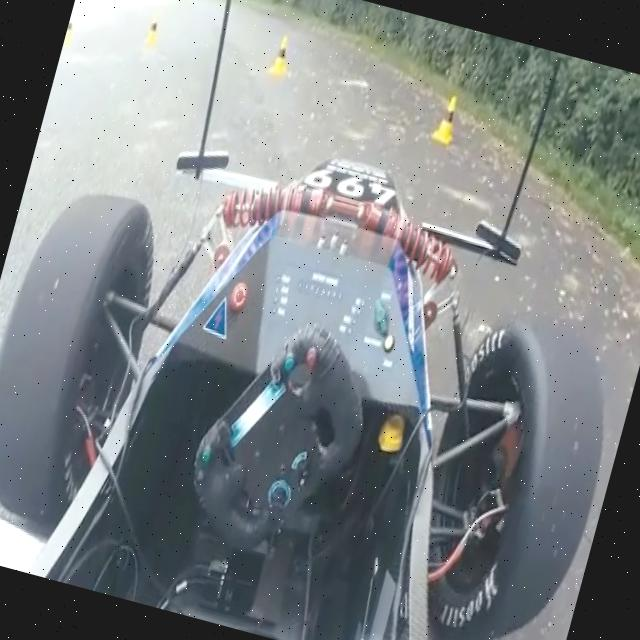yellow_cone: (426, 86, 469, 154), (264, 31, 299, 84), (629, 251, 640, 365)
